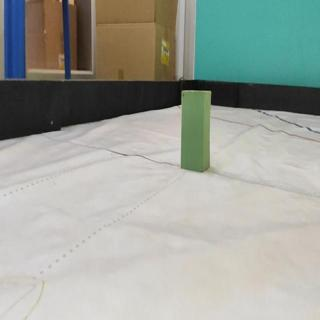greenbox: (179, 89, 212, 173)
